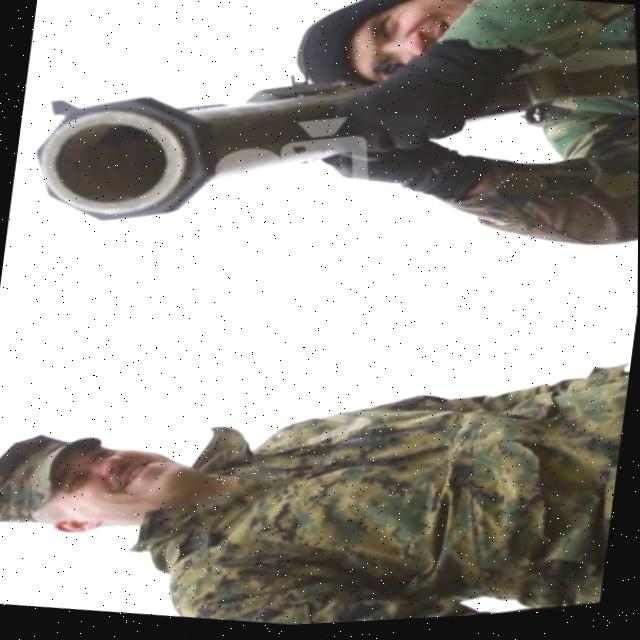rocket: (17, 36, 382, 264)
